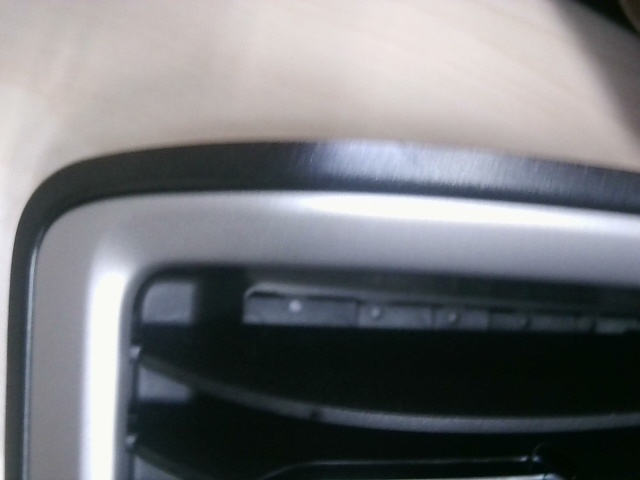NG: (392, 136, 424, 173)
